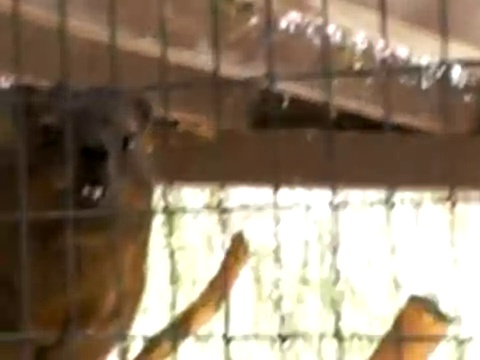Rock Hyrex: (1, 77, 159, 355)
